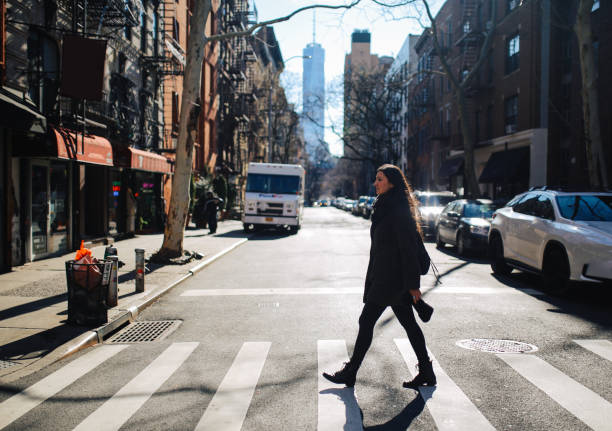kamyon: (237, 149, 301, 257)
otomobil: (482, 181, 611, 341), (436, 175, 498, 253)
yaya: (329, 158, 440, 415)
